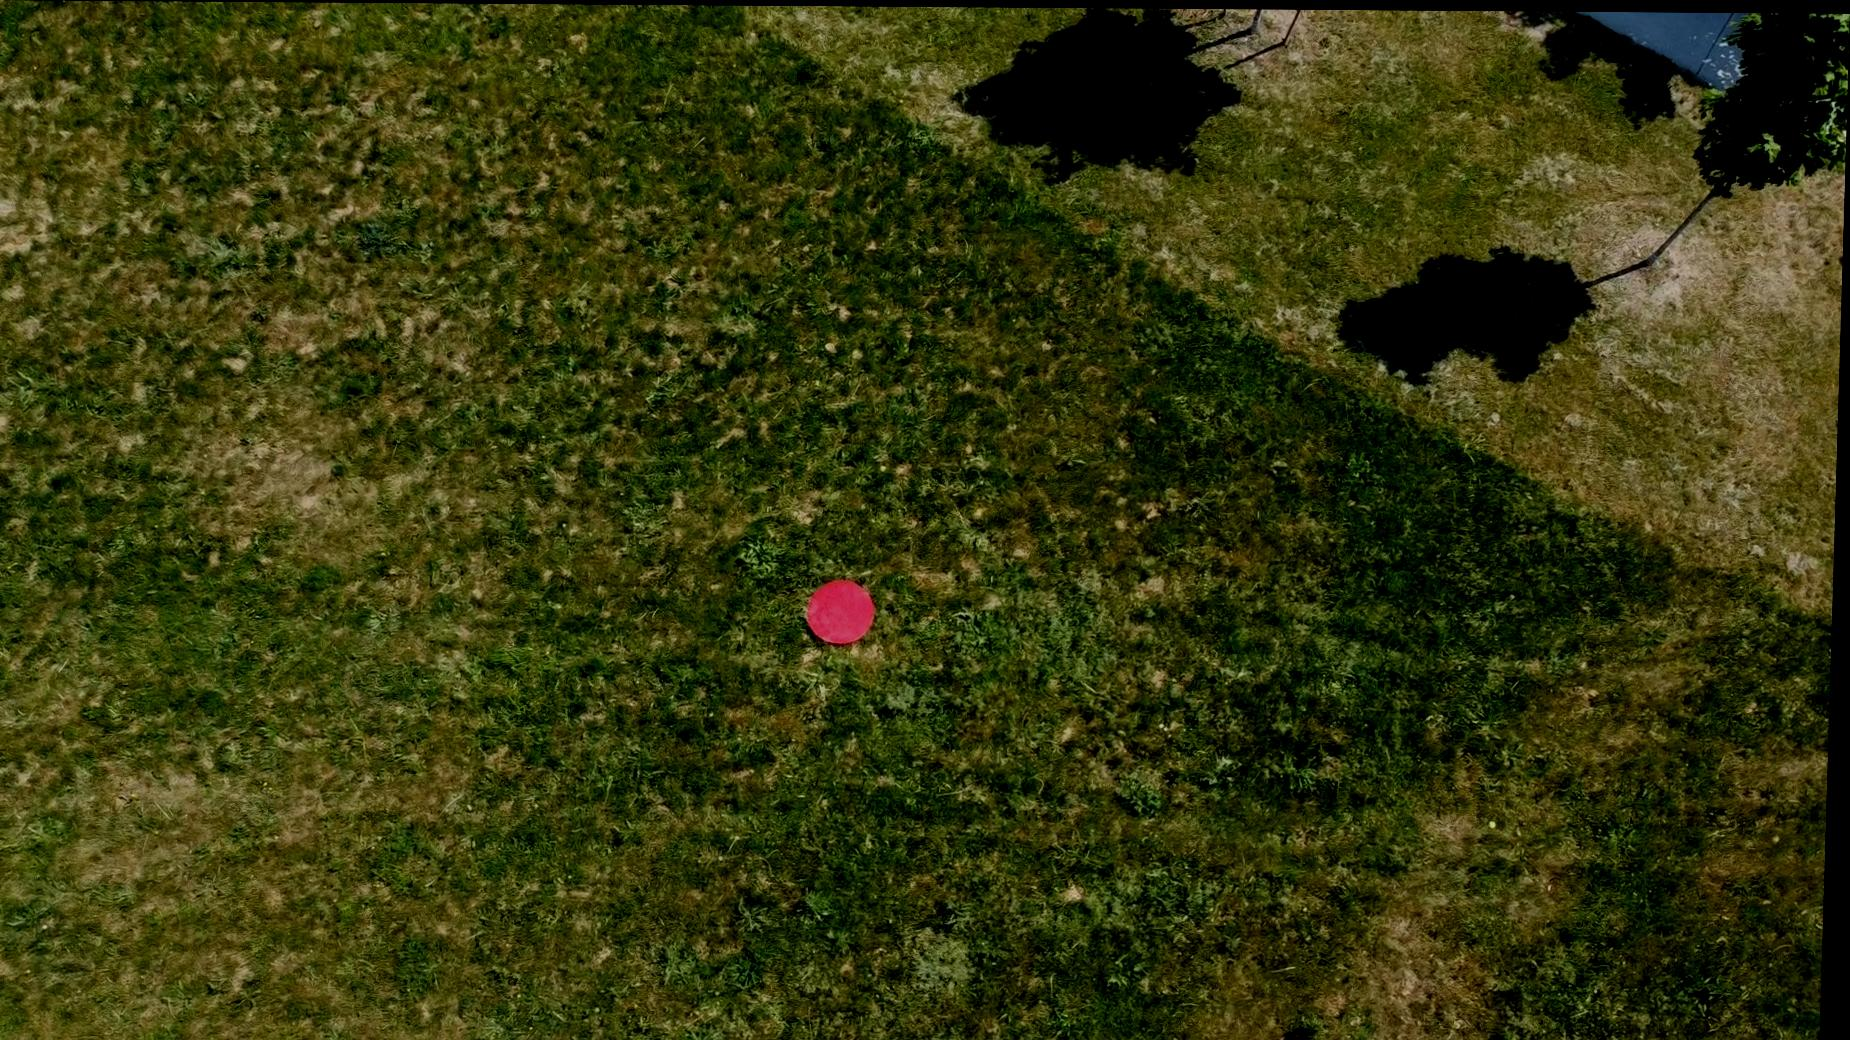Red: (807, 577, 881, 646)
